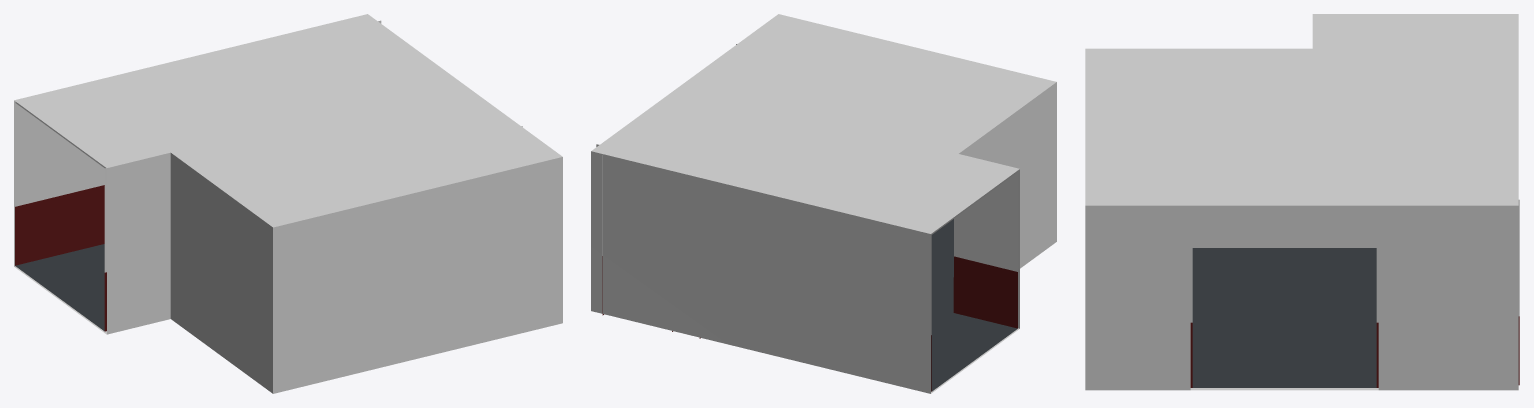
File: SM_H_Building_Tide_JailDig_01_Indoor_02_ATLAS.fbx
The picture shows the model from 3 angles, left to right: view 1: azimuth 30°, elevation 25°; view 2: azimuth 150°, elevation 25°; view 3: azimuth 270°, elevation 25°; orthographic projection. The views are drawn at different scales.
Parts seen in each view (by area): view 1: SM_H_Building_Tide_JailDig_01_Indoor_02_ATLAS; view 2: SM_H_Building_Tide_JailDig_01_Indoor_02_ATLAS; view 3: SM_H_Building_Tide_JailDig_01_Indoor_02_ATLAS.
Boxes of the visible parts, left/top/right/bottom form: SM_H_Building_Tide_JailDig_01_Indoor_02_ATLAS: left=14, top=14, right=562, bottom=393; SM_H_Building_Tide_JailDig_01_Indoor_02_ATLAS: left=591, top=14, right=1056, bottom=393; SM_H_Building_Tide_JailDig_01_Indoor_02_ATLAS: left=1085, top=14, right=1519, bottom=390.
Size of the model in its own units: 1168 by 1106 by 524.
